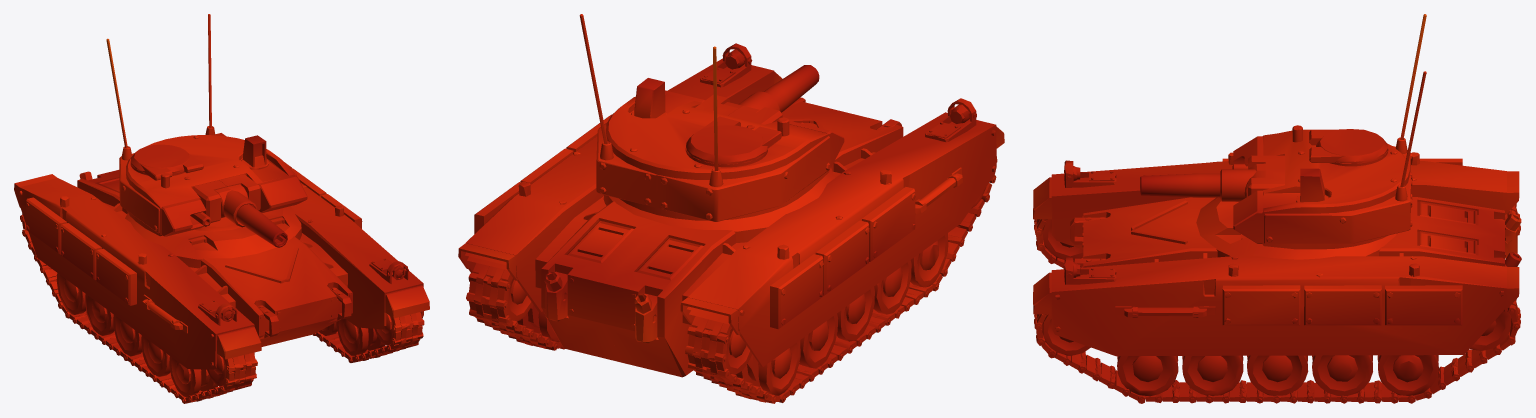
Rendered from WbLightTankRigged.fbx.
3 views of the same model, side by side, from view 1: azimuth 30°, elevation 25°; view 2: azimuth 150°, elevation 25°; view 3: azimuth 270°, elevation 25° (orthographic). The views are drawn at different scales.
Parts seen in each view (by area): view 1: Body, TurretMain, BarrelCannon, Wheel.022, Wheel.034, Wheel.030, Wheel.031, Wheel.033, Wheel.032, WheelFixed.009; view 2: Body, TurretMain, BarrelCannon, Wheel.030, Wheel.031, Wheel.032, Wheel.033, Wheel.034, WheelFixed.010, WheelFixed.011, Wheel.027; view 3: Body, TurretMain, BarrelCannon, Wheel.027, Wheel.025, Wheel.026, Wheel.024, Wheel.022, WheelFixed.011, WheelFixed.008, WheelFixed.009.
Part boxes in pixels (box(x1,y1,x2,y2)): Body: box(14, 133, 429, 403); TurretMain: box(106, 14, 307, 236); BarrelCannon: box(215, 184, 287, 247); Wheel.022: box(336, 319, 385, 356); Wheel.034: box(169, 356, 217, 397); Wheel.030: box(56, 273, 85, 314); Wheel.031: box(85, 294, 114, 335); Wheel.033: box(141, 335, 170, 376); Wheel.032: box(113, 314, 141, 356); WheelFixed.009: box(207, 354, 227, 386); Body: box(458, 43, 1004, 403); TurretMain: box(579, 14, 844, 221); BarrelCannon: box(724, 65, 819, 112); Wheel.030: box(735, 340, 800, 395); Wheel.031: box(799, 313, 838, 368); Wheel.032: box(837, 287, 874, 341); Wheel.033: box(873, 260, 911, 314); Wheel.034: box(910, 233, 948, 287); WheelFixed.010: box(724, 327, 752, 374); WheelFixed.011: box(491, 276, 532, 321); Wheel.027: box(517, 304, 559, 342); Body: box(1033, 152, 1521, 403); TurretMain: box(1233, 14, 1426, 249); BarrelCannon: box(1140, 163, 1265, 201); Wheel.027: box(1377, 355, 1438, 395); Wheel.025: box(1247, 355, 1308, 395); Wheel.026: box(1312, 355, 1372, 395); Wheel.024: box(1182, 355, 1243, 395); Wheel.022: box(1117, 356, 1178, 396); WheelFixed.011: box(1470, 309, 1511, 350); WheelFixed.008: box(1042, 314, 1090, 355); WheelFixed.009: box(1042, 219, 1083, 259).
Bounding box in the file's own units: 0.5333 × 0.5737 × 0.8278.
